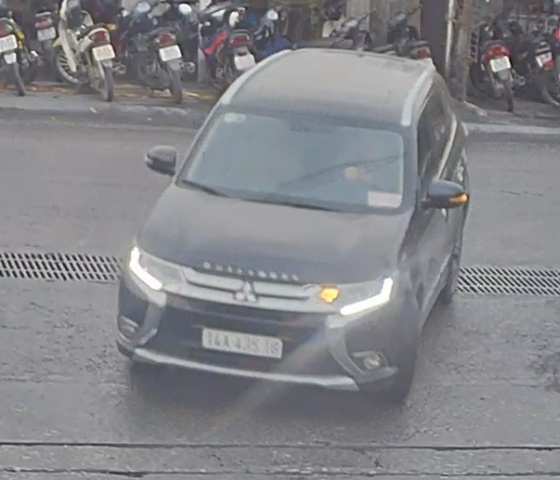vehicle plate: (198, 322, 288, 361)
